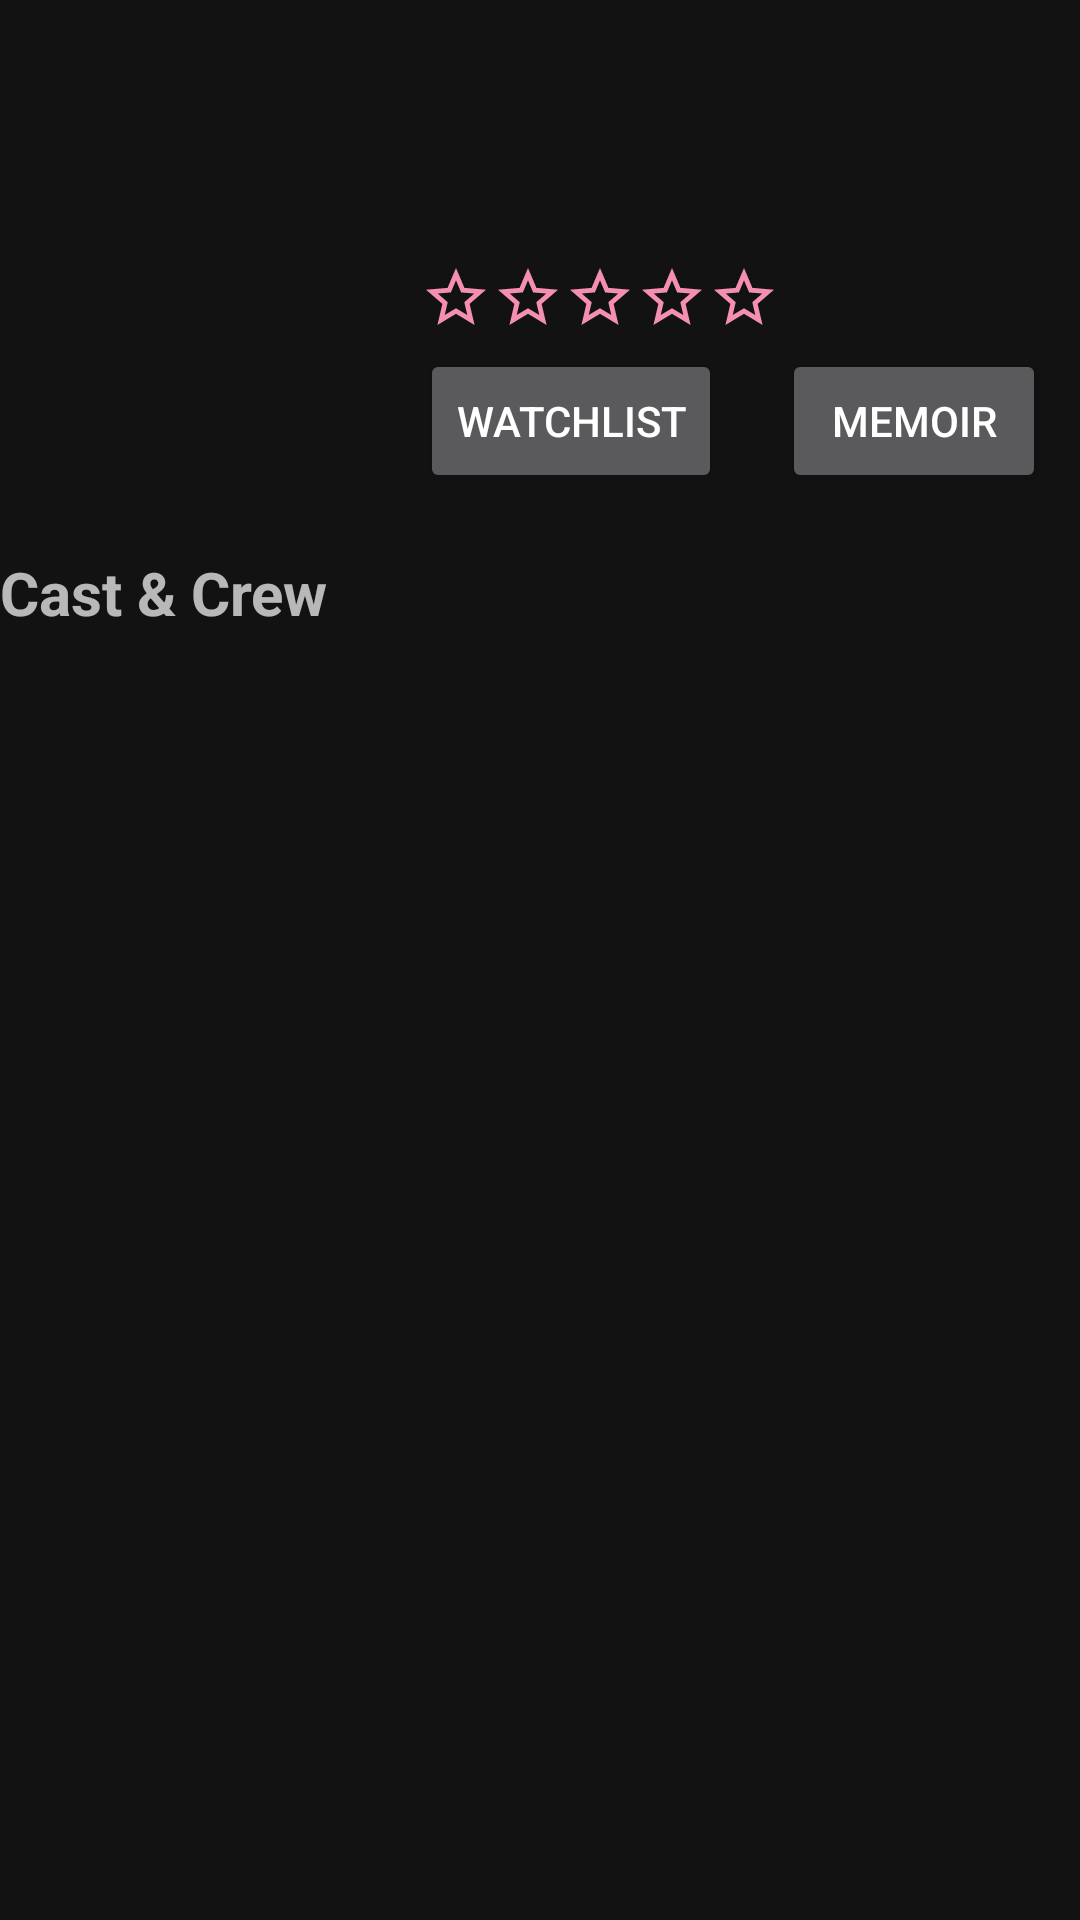

Icon bounding boxes for this 1080*1920 phone screenshot, format bbox=[x1, y1, x2, y2]:
star border: bbox=[426, 268, 486, 325], bbox=[498, 268, 558, 325], bbox=[570, 268, 630, 325], bbox=[642, 268, 702, 325], bbox=[714, 268, 774, 325]
